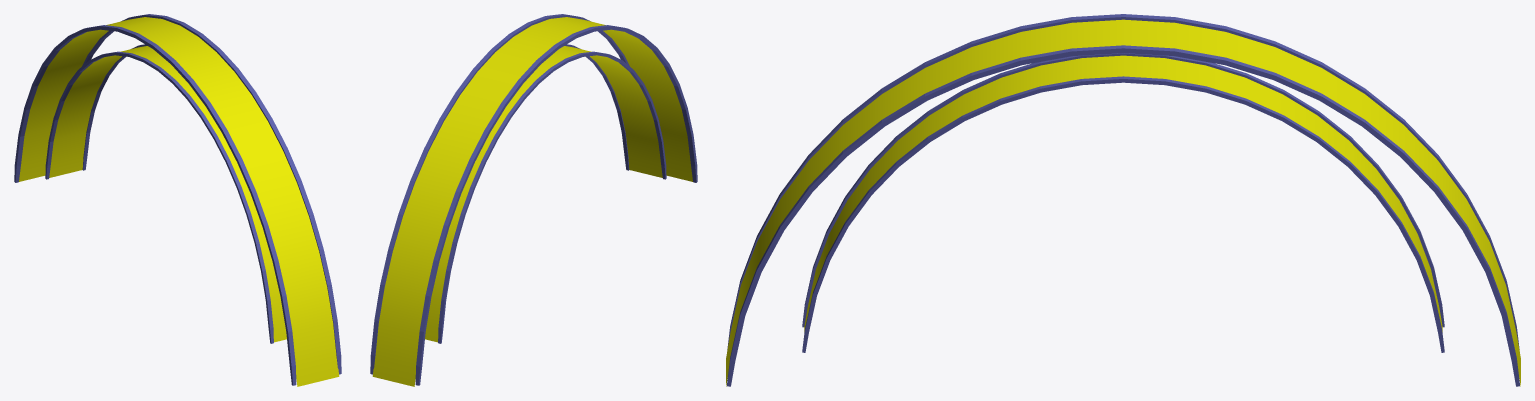
File: arch1.fbx
3 renders of one model, left to right at view 1: azimuth 30°, elevation 25°; view 2: azimuth 150°, elevation 25°; view 3: azimuth 270°, elevation 25°, orthographic. The views are drawn at different scales.
Visible parts, largest first — view 1: arch1; view 2: arch1; view 3: arch1.
Part boxes in pixels (x1=…): arch1: x1=14, y1=14, x2=341, y2=386; arch1: x1=370, y1=14, x2=697, y2=386; arch1: x1=726, y1=14, x2=1520, y2=386.
Size of the model in its own units: 313 by 1447 by 3058.
